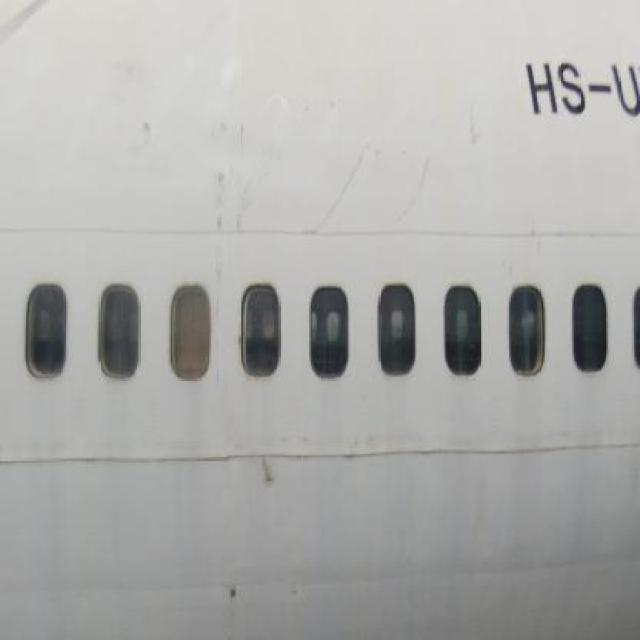Rust: (232, 420, 290, 505), (118, 77, 162, 168)
Scartch: (293, 72, 504, 243), (191, 88, 275, 374)
